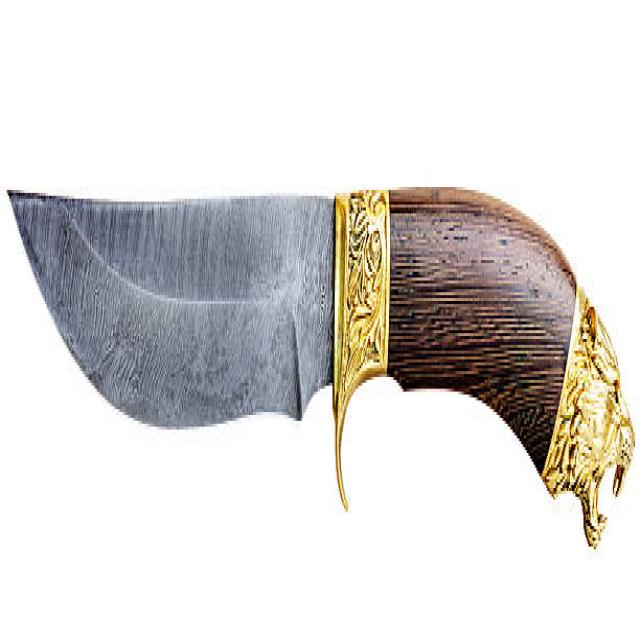knife: (6, 162, 635, 554)
